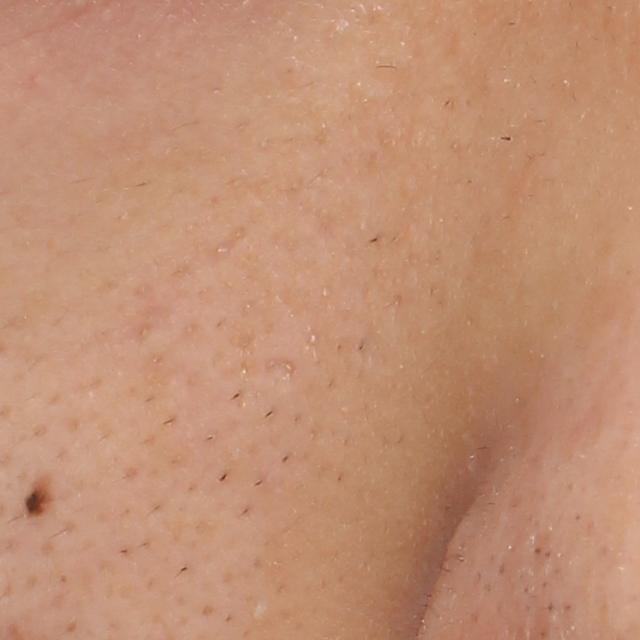atrophic_scar: (115, 228, 249, 351), (260, 360, 298, 382)
nevus: (22, 479, 54, 521)
